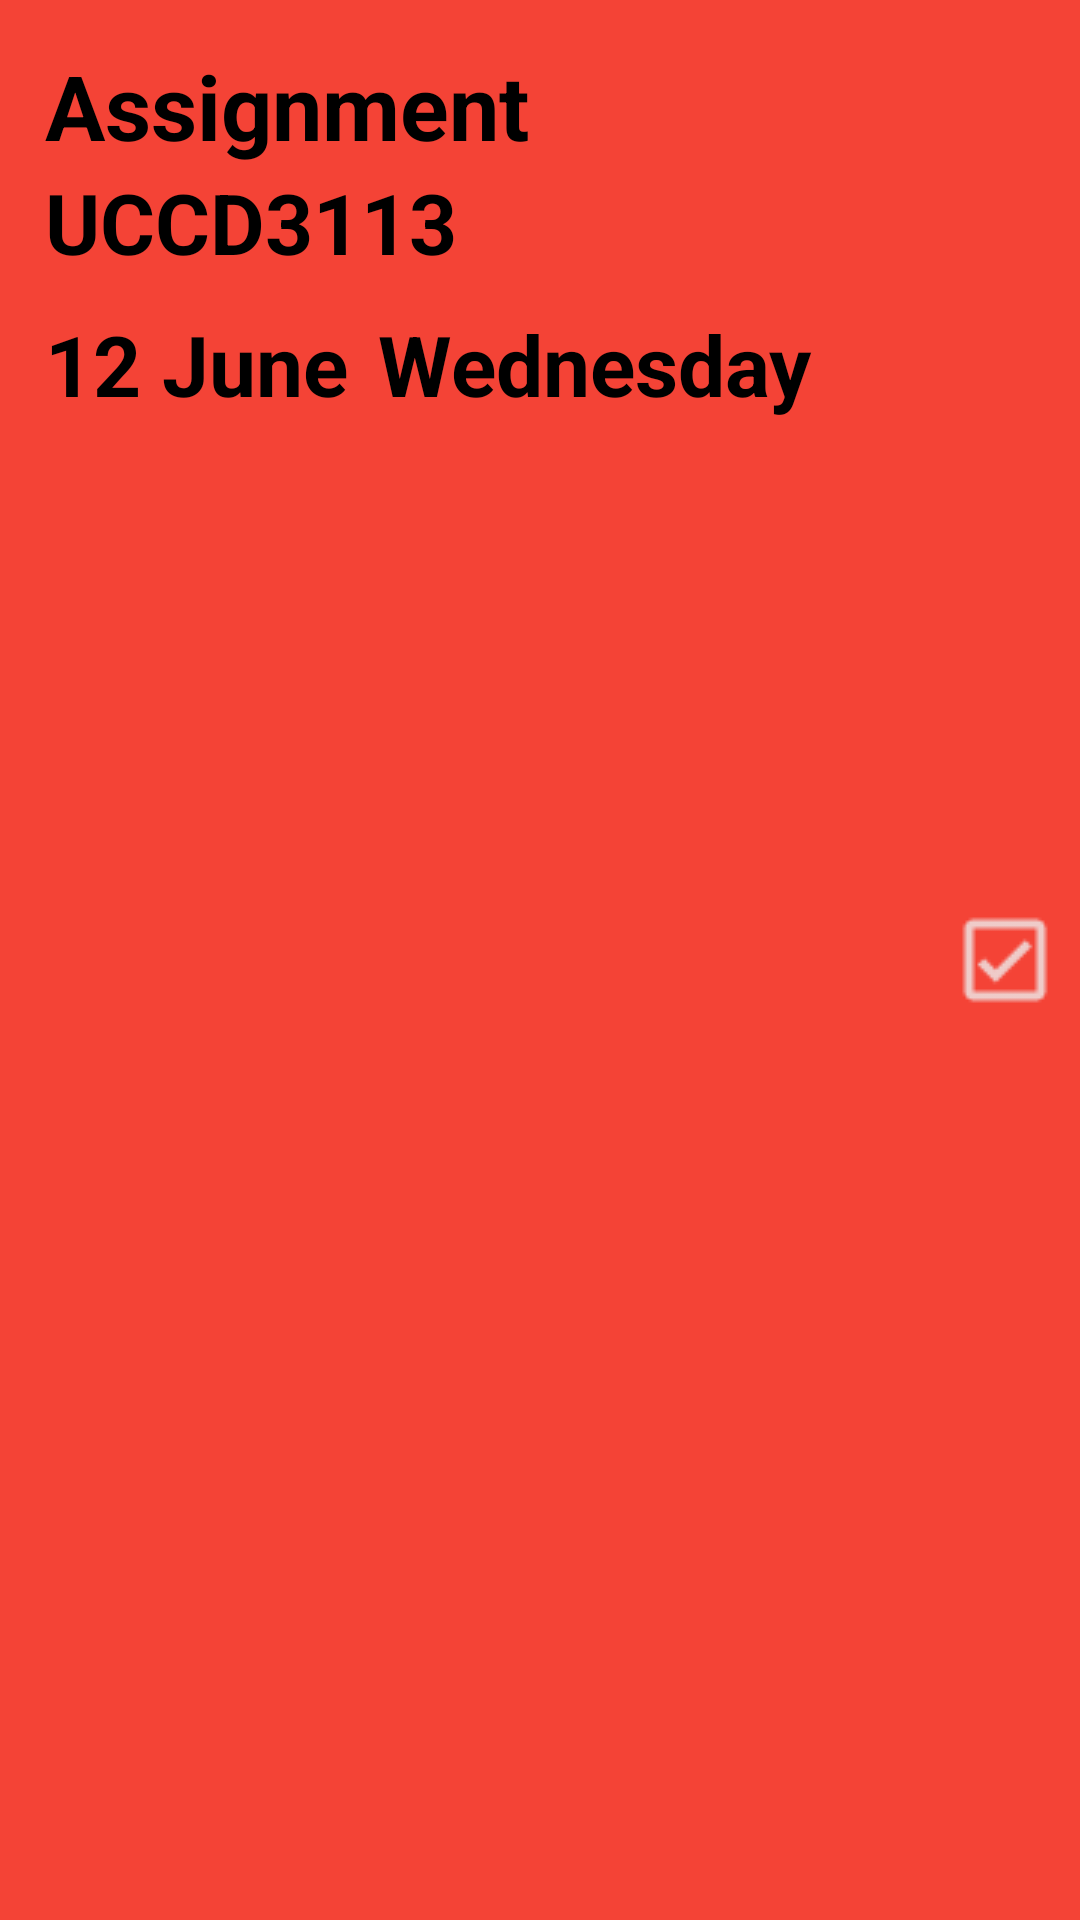

Where to tap for icons on this 1080px×1920px app screen, as (x,y):
tick: (1005,960)
